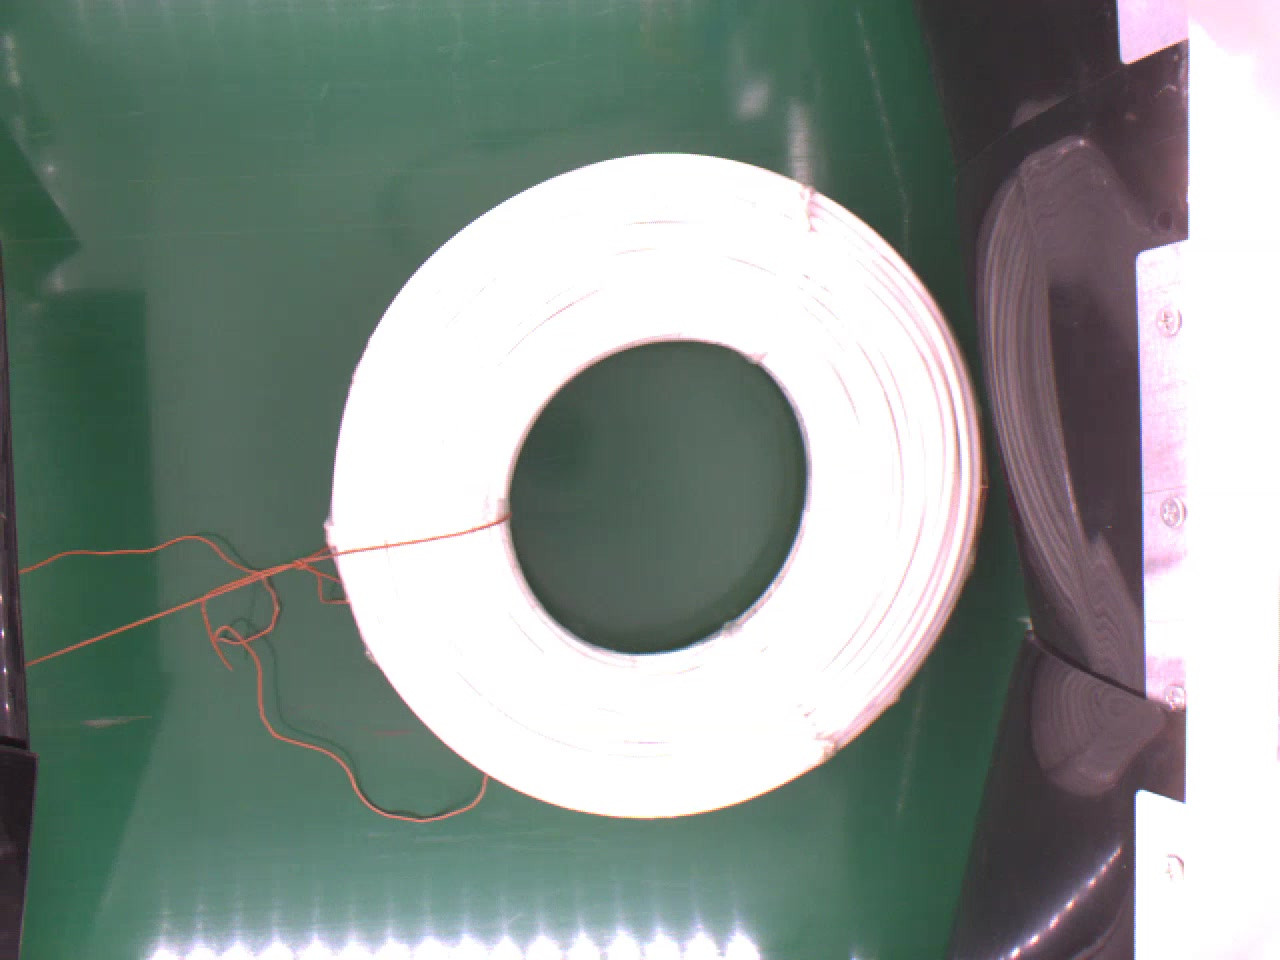white: (316, 144, 1000, 826)
